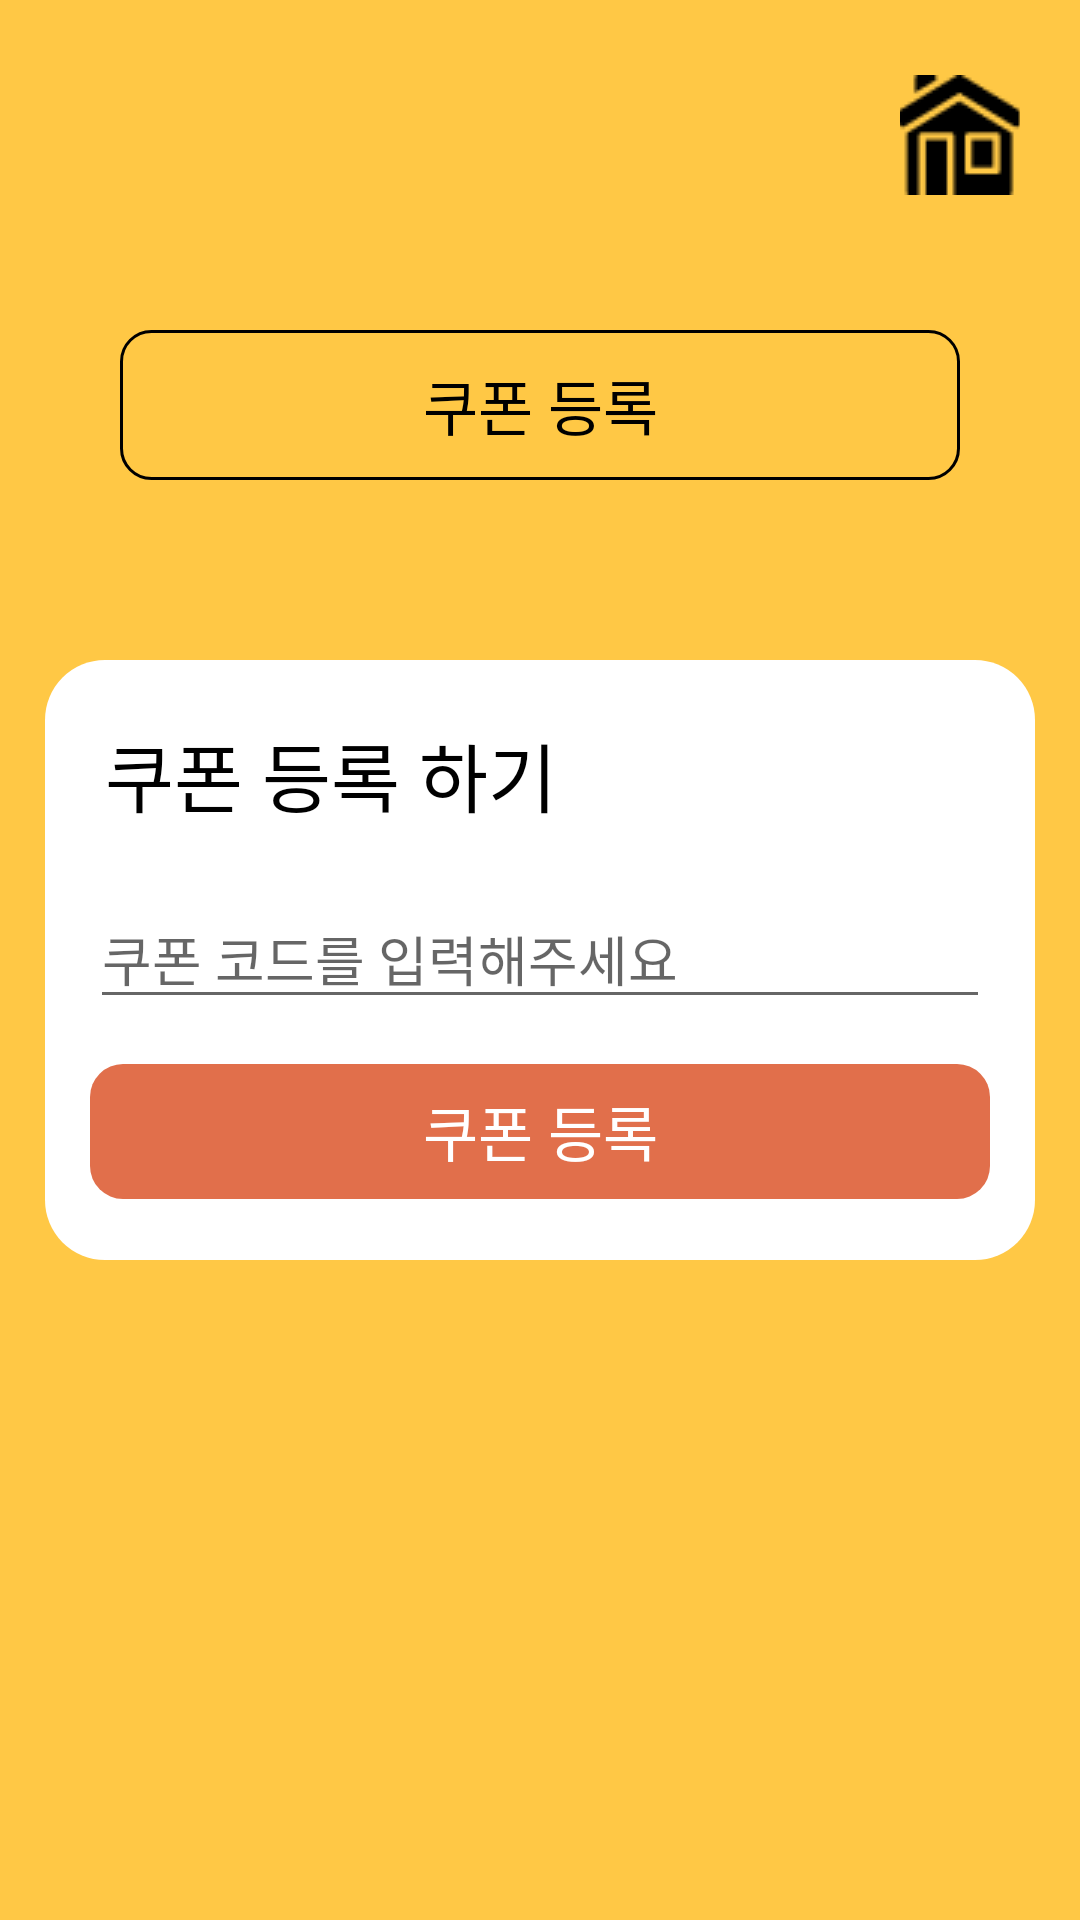

Icons on this 1080 × 1920 Android screen, each with the point to tap as [x,y]:
home: [960,135]
